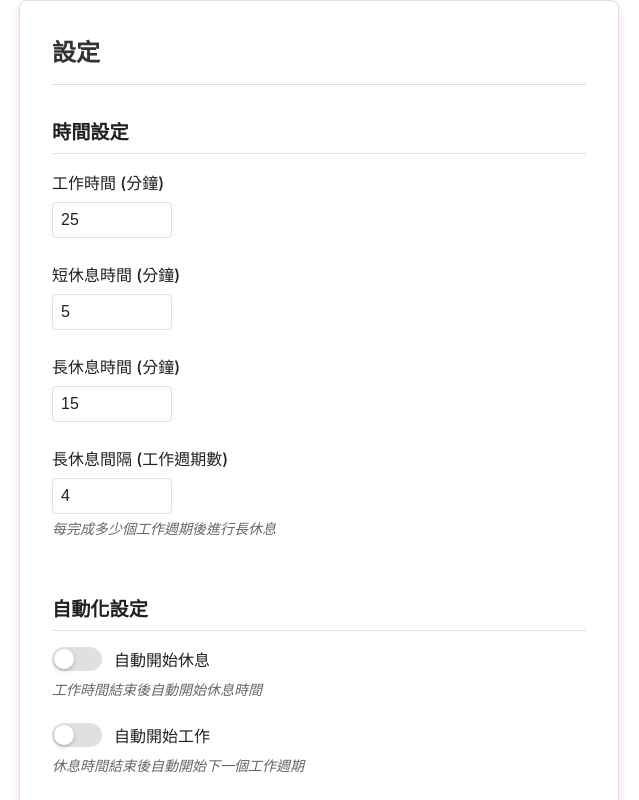
Test: SettingsPanel › Time Settings › should show error for invalid work duration
Replace the text in the number field labelled "工作時間 (分鐘)" with "150" at (112, 220), box [52,202,172,238]
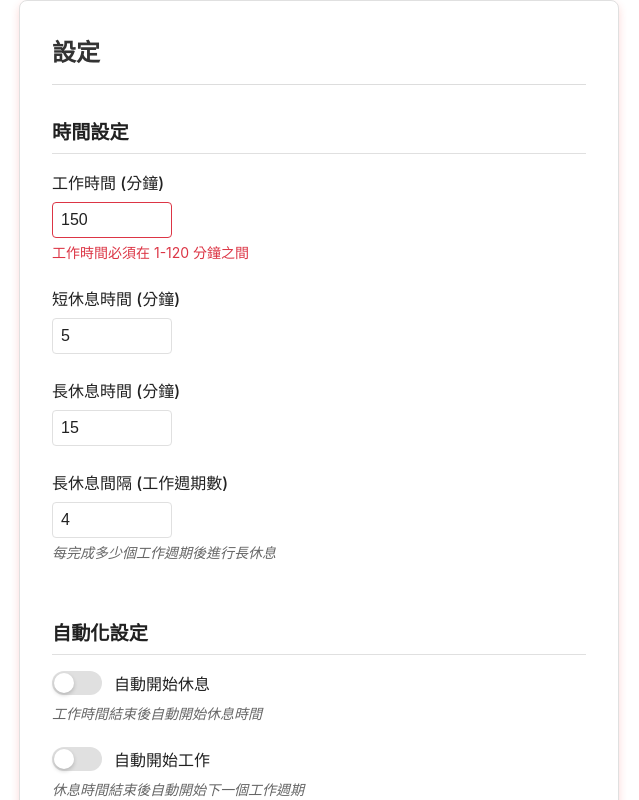
Now the text "工作時間必須在 1-120 分鐘之間" is shown, box [52,244,249,261]
